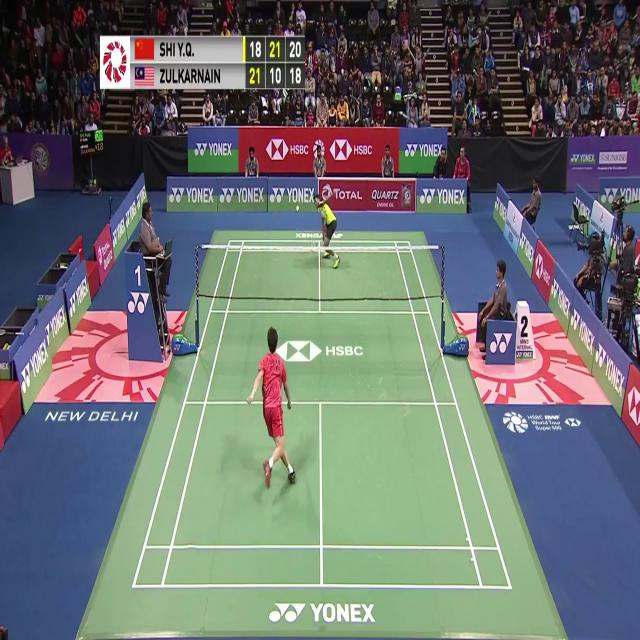Shuttlecock: (293, 204, 299, 216)
